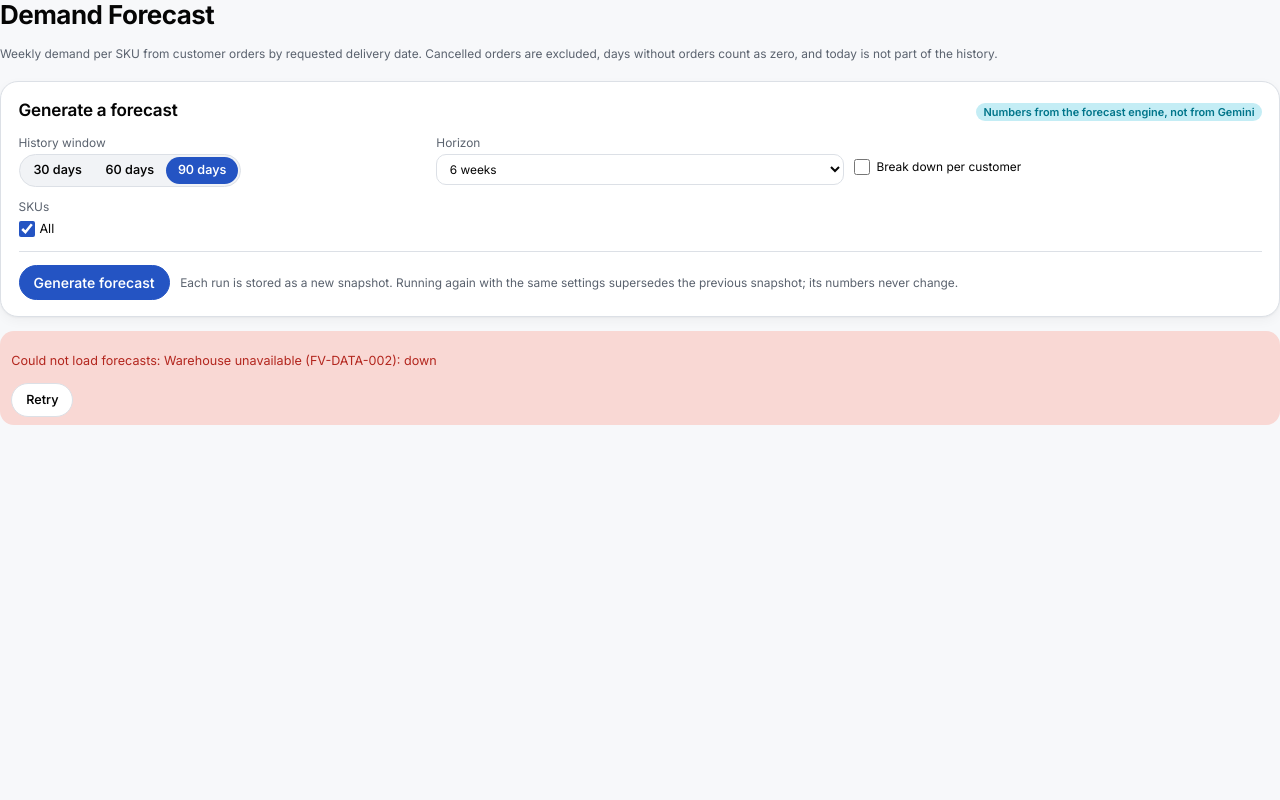
Test: shows an error with Retry, then recovers
The width and height of the screenshot is (1280, 800).
Expected: the text "Could not load forecasts: Warehouse unavailable (FV-DATA-002)" is shown, 11,353 -> 437,368
Click the button "Retry". click: (42, 400)
box: 11,383 -> 74,417
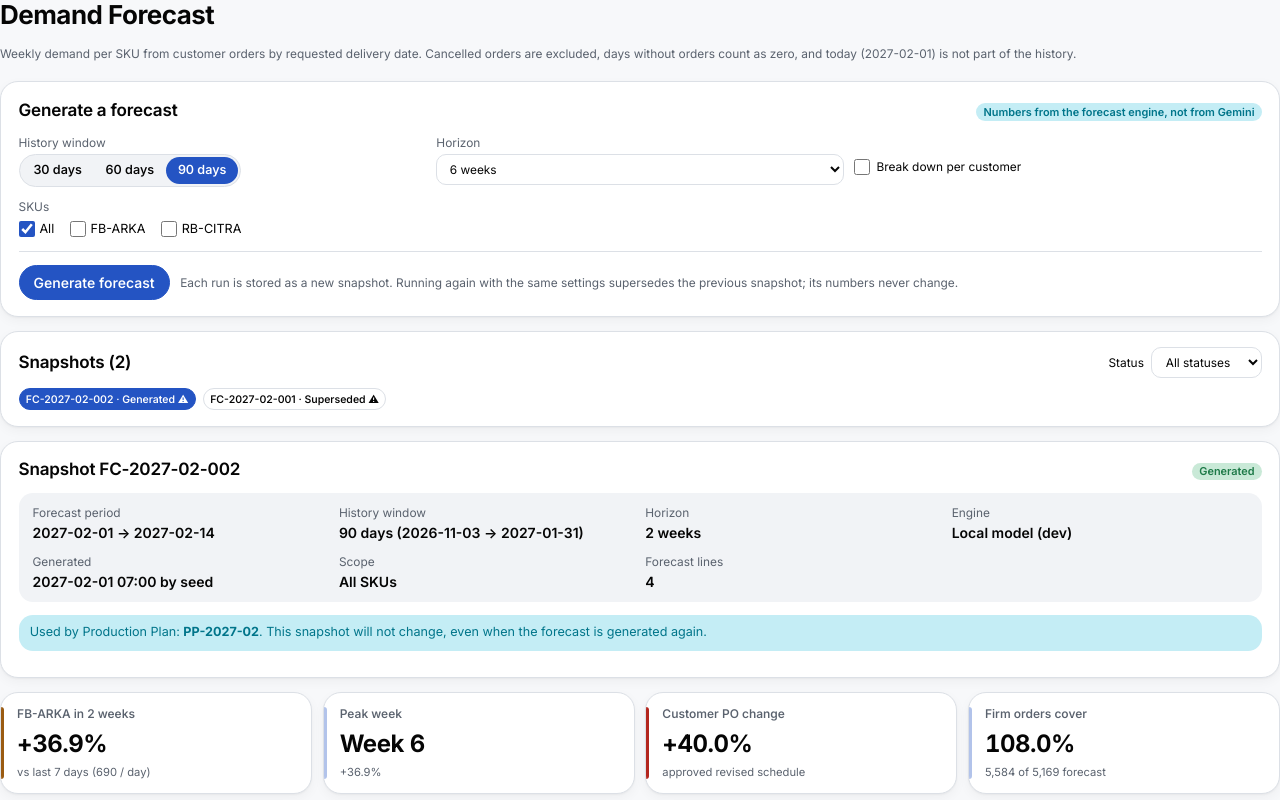
Expected: the heading "Snapshot FC-2027-02-002" is shown, 18,457 -> 240,483
